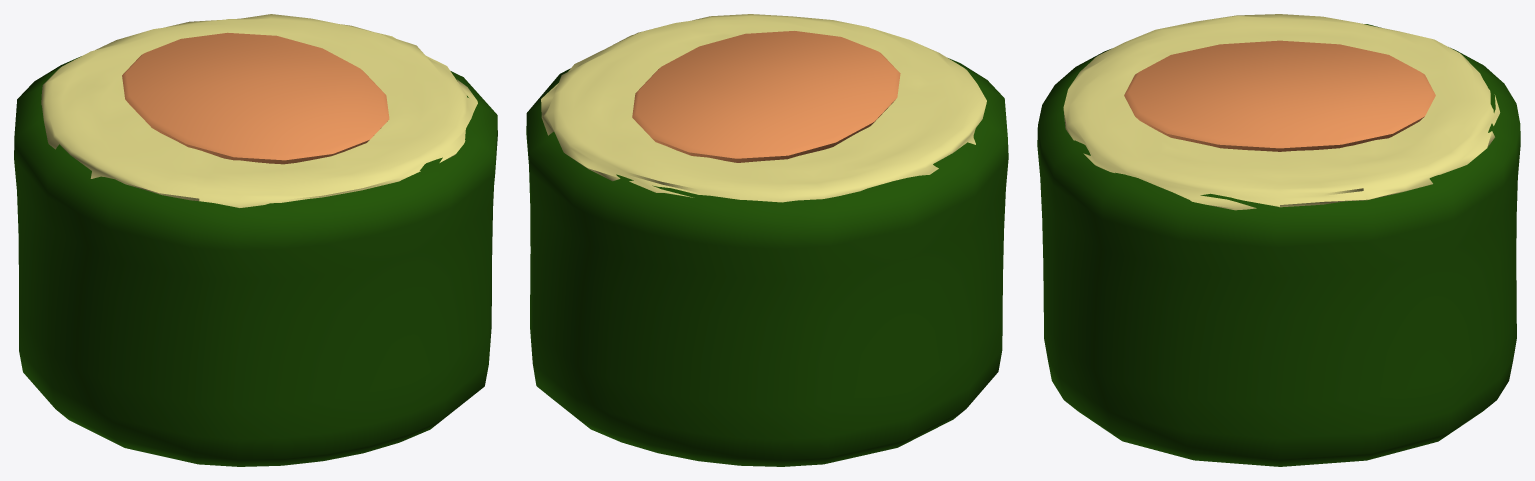
Rendered from SM_Fish_Sushi.fbx.
3 views of the same model, side by side, from view 1: azimuth 30°, elevation 25°; view 2: azimuth 150°, elevation 25°; view 3: azimuth 270°, elevation 25° (orthographic).
Parts seen in each view (by area): view 1: SM_Fish_Sushi; view 2: SM_Fish_Sushi; view 3: SM_Fish_Sushi.
Boxes of the visible parts, <box> form: SM_Fish_Sushi: <box>14,14,497,466</box>; SM_Fish_Sushi: <box>526,14,1008,466</box>; SM_Fish_Sushi: <box>1037,14,1520,466</box>.
Size of the model in its own units: 52.79 by 35.88 by 52.79.
